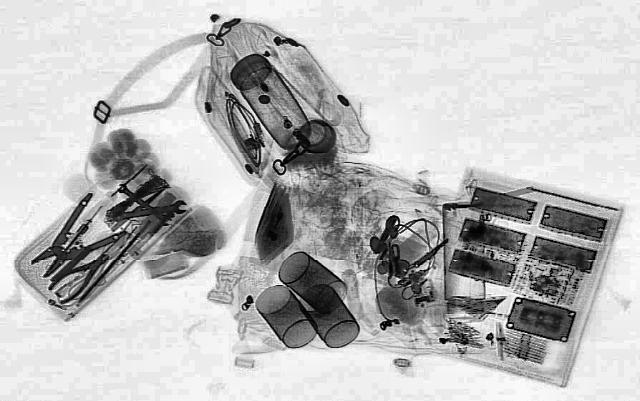Pliers: (0, 191, 148, 283), (36, 247, 120, 303)
Wrench: (111, 182, 175, 226), (101, 198, 189, 224)
